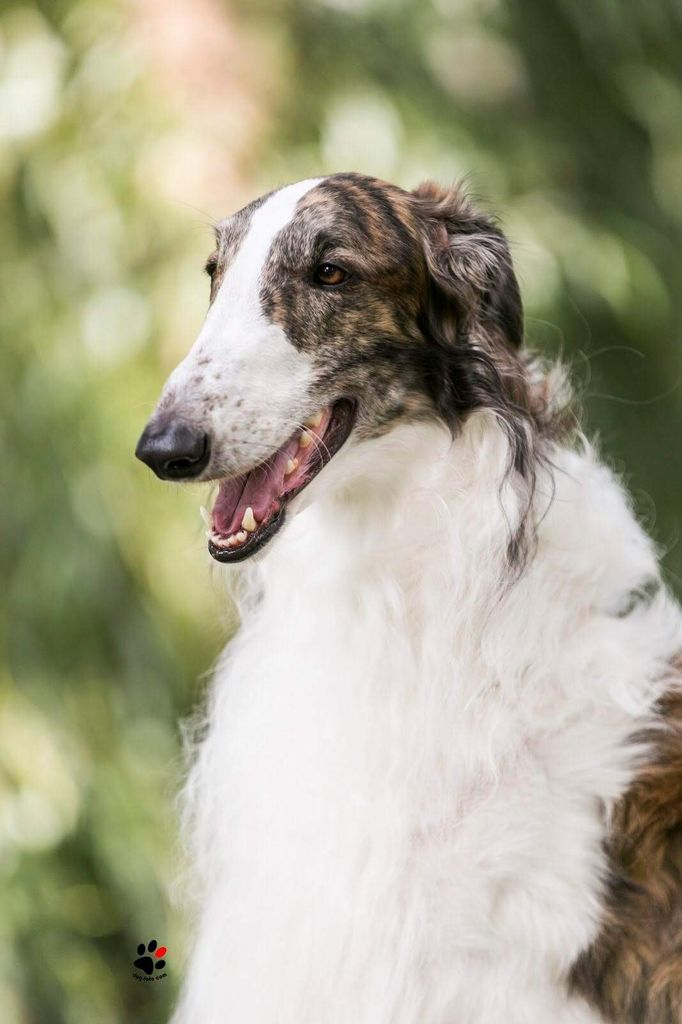borzoi: (126, 159, 682, 1019)
